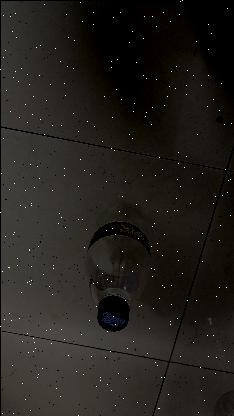Plastic Bottle: (83, 204, 151, 332)
